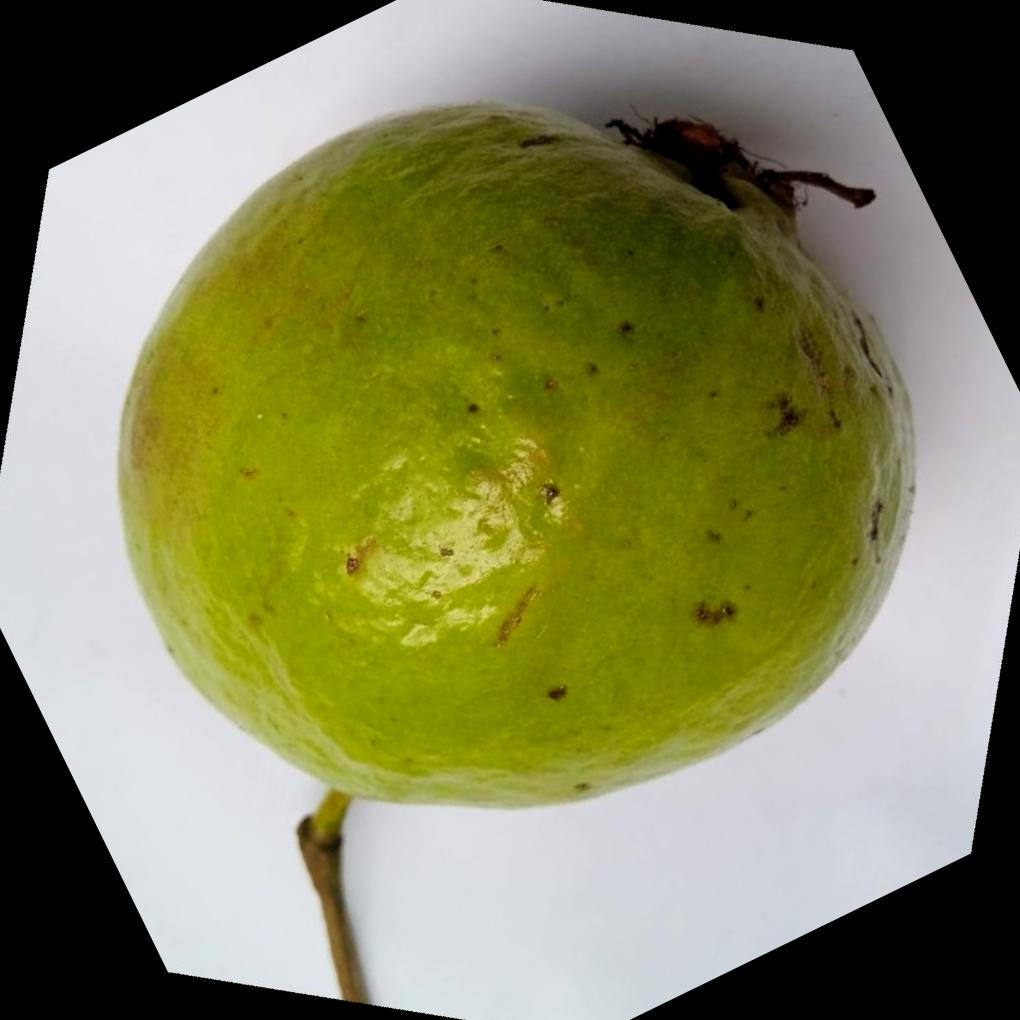FreshGuava: (117, 97, 922, 811)
